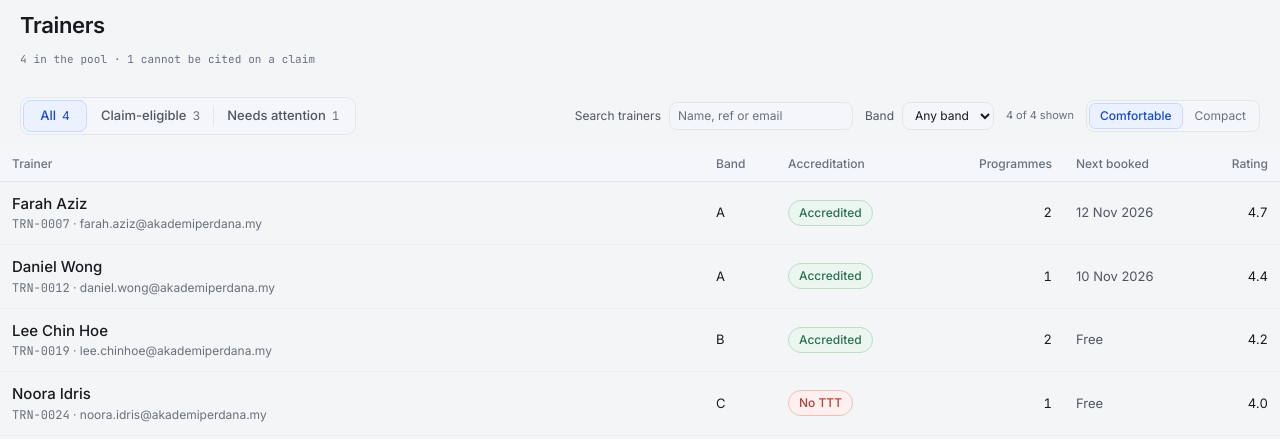
Scenario: the trainer pool › narrows to the trainers who need attention through the toolbar's tabs
Check: the text "Farah Aziz" is shown, box [12,194,88,212]
Click the tab "Needs attention 1" at (283, 116), box [214,100,353,132]
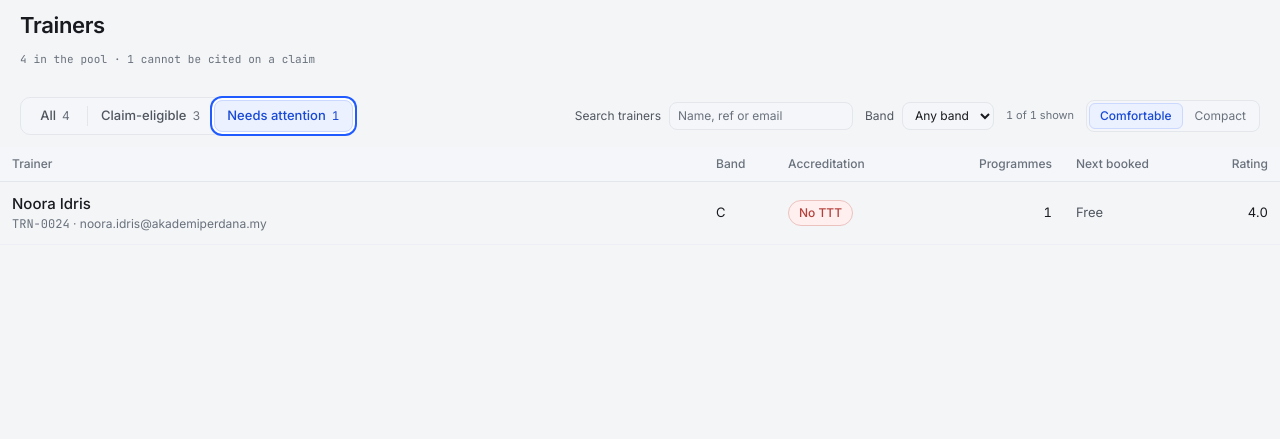
Check: the text "Noora Idris" is shown, box [12,194,91,212]
Check: the text "Farah Aziz" is gone
